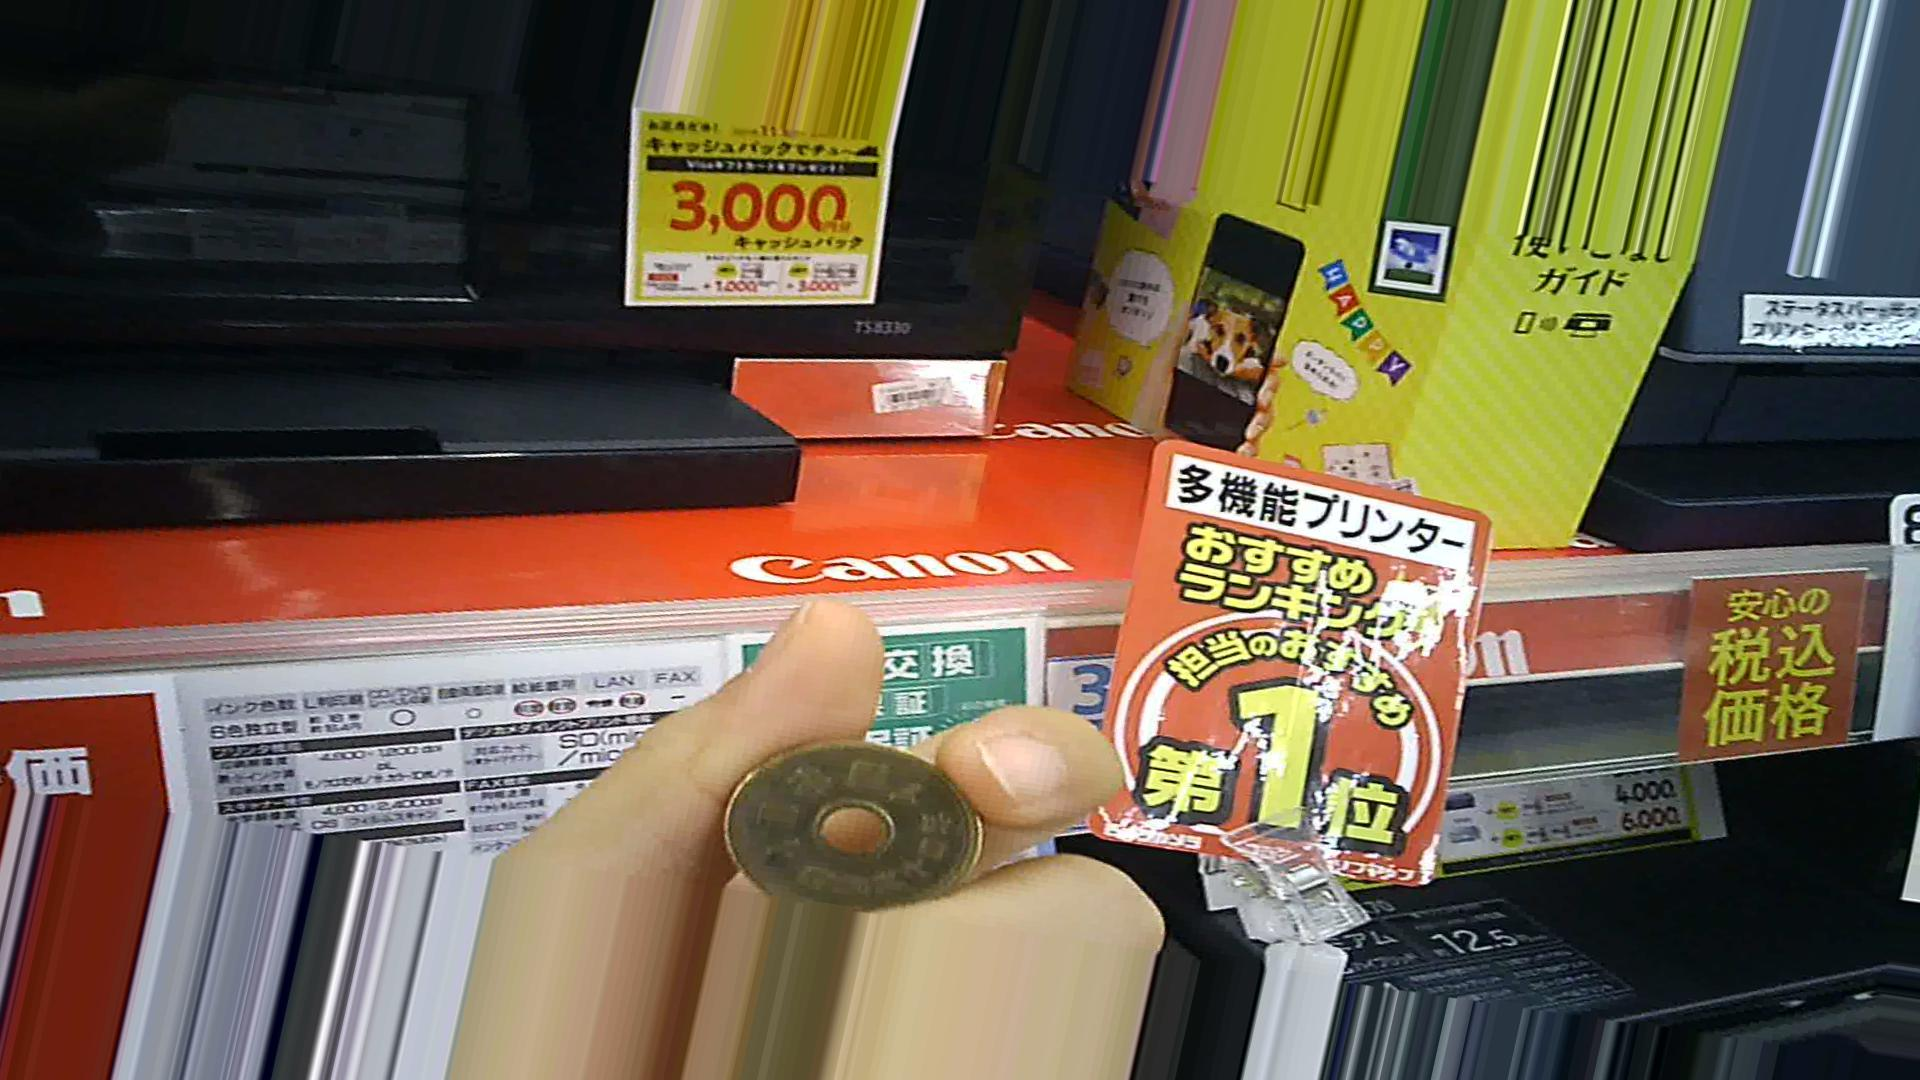5 Yen: (717, 738, 992, 913)
